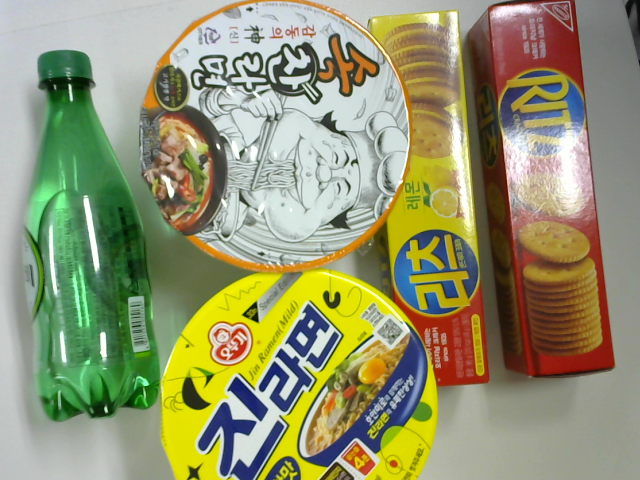Hejangchan: (127, 1, 423, 272)
Jinlamyeon_Mild_Taste_Large_Cup: (160, 264, 433, 480)
Ritz_Cracker: (496, 1, 606, 386)
Ritz_Remon_96g: (356, 13, 498, 384)
Treviraim_500ml: (15, 37, 177, 416)
